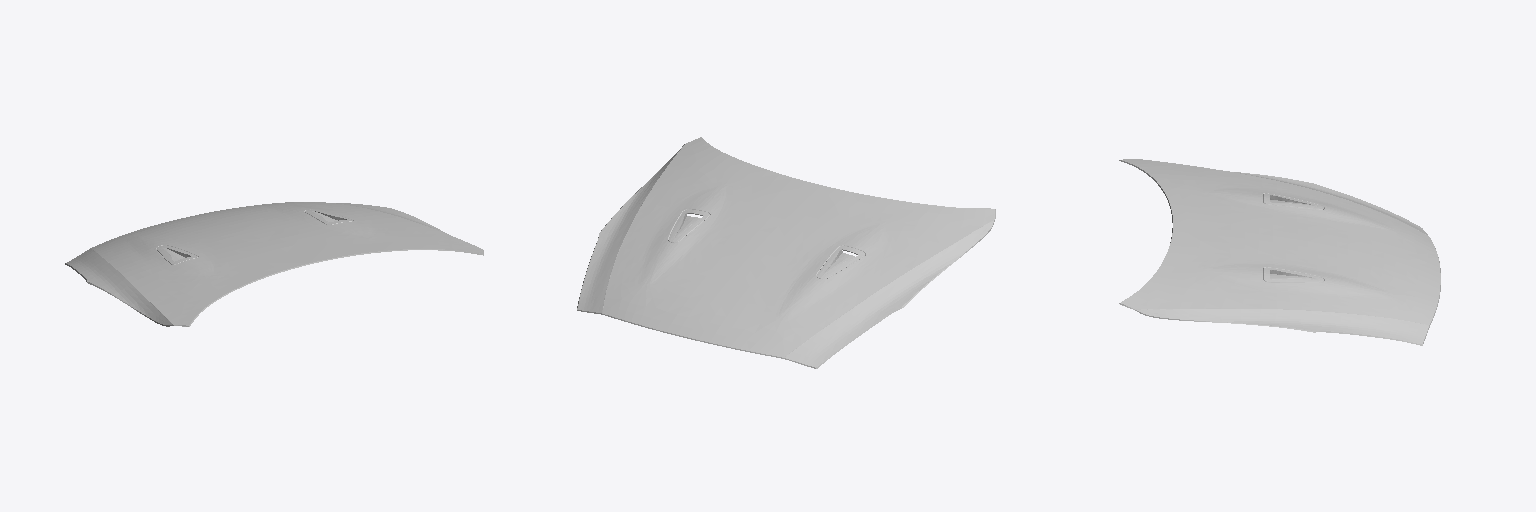
The model's file is Cofre.obj.
3 renders of one model, left to right at view 1: azimuth 30°, elevation 25°; view 2: azimuth 150°, elevation 25°; view 3: azimuth 270°, elevation 25°, orthographic.
Visible parts, largest first — view 1: NIS20_carbon_fiber_0_body, NIS20_carbon_fiber_0_carbon_fiber; view 2: NIS20_carbon_fiber_0_body, NIS20_carbon_fiber_0_carbon_fiber; view 3: NIS20_carbon_fiber_0_body, NIS20_carbon_fiber_0_carbon_fiber.
Boxes of the visible parts, <box> form: NIS20_carbon_fiber_0_body: <box>65,202,483,326</box>; NIS20_carbon_fiber_0_carbon_fiber: <box>157,210,352,264</box>; NIS20_carbon_fiber_0_body: <box>577,137,995,368</box>; NIS20_carbon_fiber_0_carbon_fiber: <box>668,209,864,278</box>; NIS20_carbon_fiber_0_body: <box>1119,159,1440,345</box>; NIS20_carbon_fiber_0_carbon_fiber: <box>1263,193,1323,282</box>.
Bounding box in the file's own units: 3.8 × 0.7334 × 3.37.